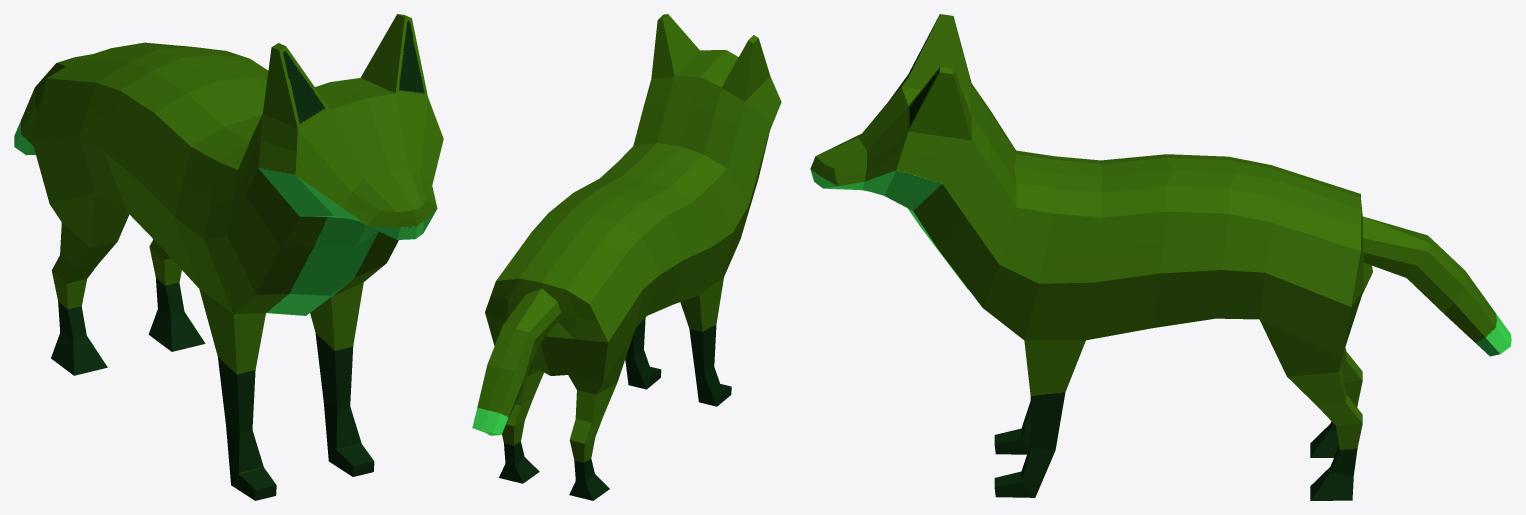
The picture shows the model from 3 angles, left to right: view 1: azimuth 30°, elevation 25°; view 2: azimuth 150°, elevation 25°; view 3: azimuth 270°, elevation 25°; orthographic projection. The views are drawn at different scales.
Visible parts, largest first — view 1: Object_2; view 2: Object_2; view 3: Object_2.
Boxes of the visible parts, x1,y1,x2,y2 form: Object_2: [14, 14, 443, 500]; Object_2: [472, 14, 781, 500]; Object_2: [810, 14, 1511, 500].
Size of the model in its own units: 0.3732 by 0.9959 by 1.47.
1 material, 1 textured.
